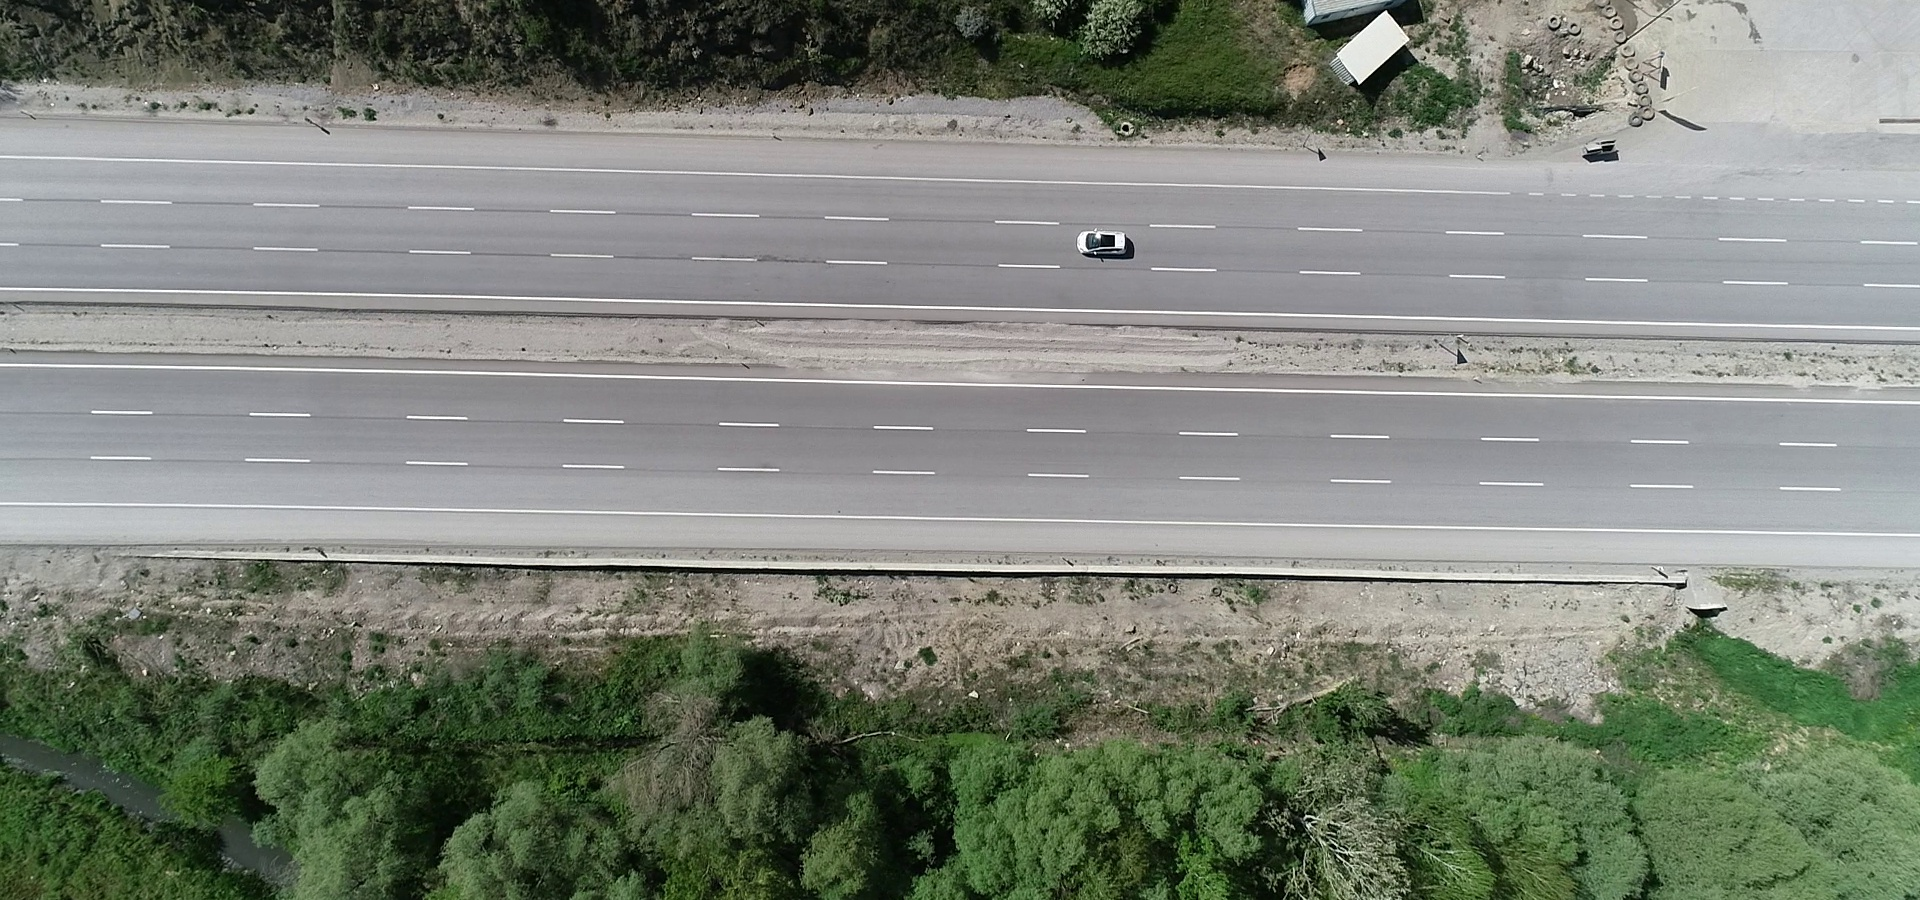arac: (1078, 220, 1130, 260)
